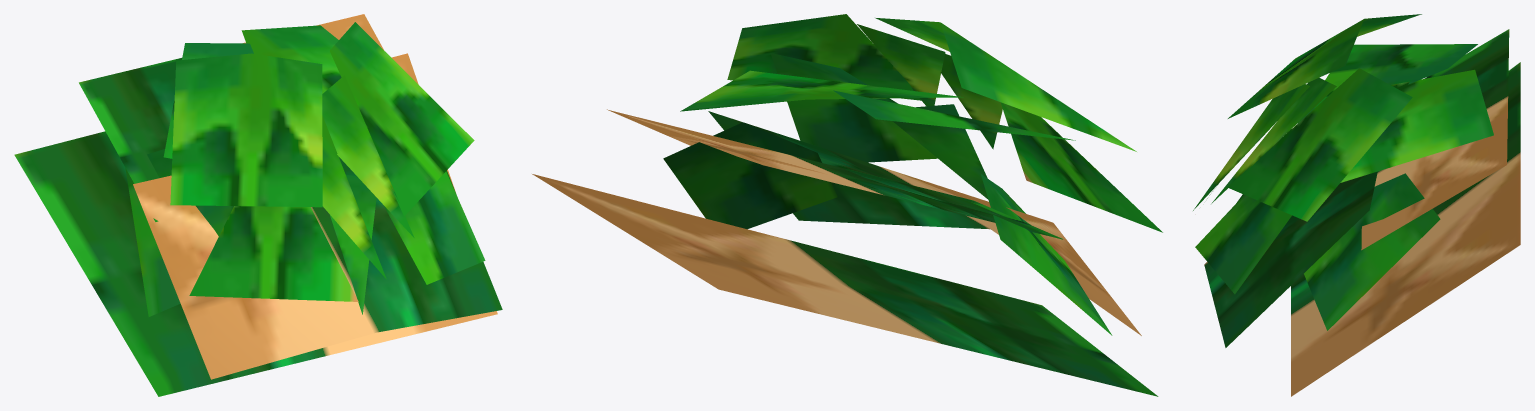
File: fg_bushE_2.dae
3 renders of one model, left to right at view 1: azimuth 30°, elevation 25°; view 2: azimuth 150°, elevation 25°; view 3: azimuth 270°, elevation 25°, orthographic. The views are drawn at different scales.
Visible parts, largest first — view 1: fg_bushE_2; view 2: fg_bushE_2; view 3: fg_bushE_2.
Boxes of the visible parts, x1,y1,x2,y2 form: fg_bushE_2: (14,14,502,396); fg_bushE_2: (532,14,1162,396); fg_bushE_2: (1193,14,1520,396).
Size of the model in its own units: 50.84 by 35.08 by 37.48.
Materials: 1 (1 with a texture image).
